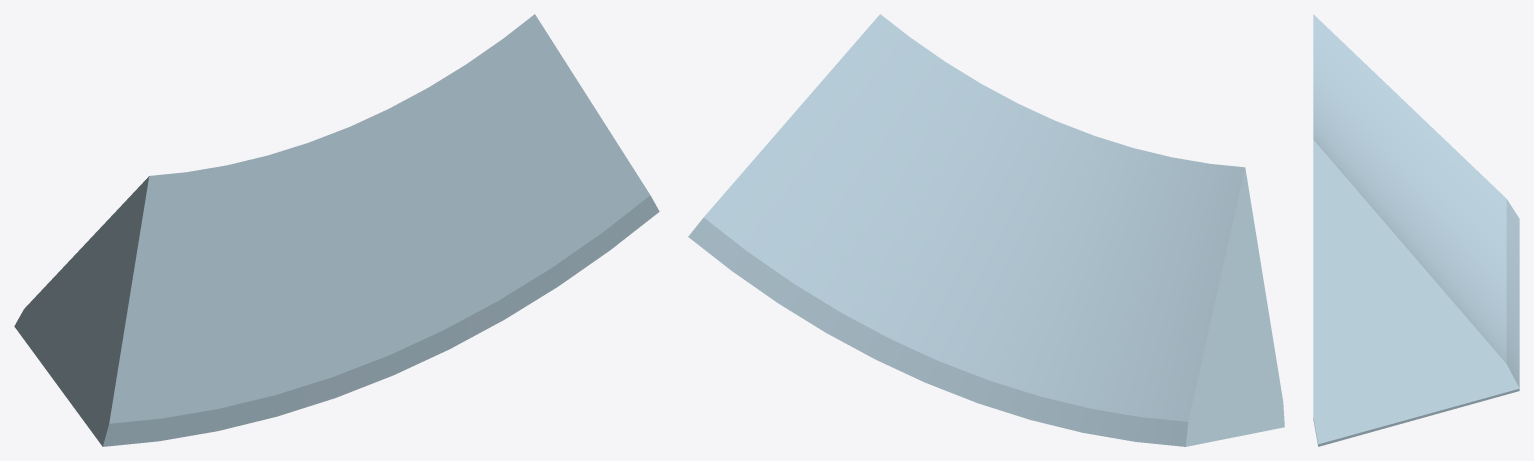
Rendered from Sub_8_Cell_2_1.gltf.
3 views of the same model, side by side, from view 1: azimuth 30°, elevation 25°; view 2: azimuth 150°, elevation 25°; view 3: azimuth 270°, elevation 25° (orthographic). The views are drawn at different scales.
Visible parts, largest first — view 1: Sub_8_Cell_2_1; view 2: Sub_8_Cell_2_1; view 3: Sub_8_Cell_2_1.
Part boxes in pixels (x1,y1,x2,y2): Sub_8_Cell_2_1: (14, 14, 659, 446); Sub_8_Cell_2_1: (688, 14, 1284, 446); Sub_8_Cell_2_1: (1313, 14, 1519, 446).
Size of the model in its own units: 0.1246 by 0.0732 by 0.0384.
